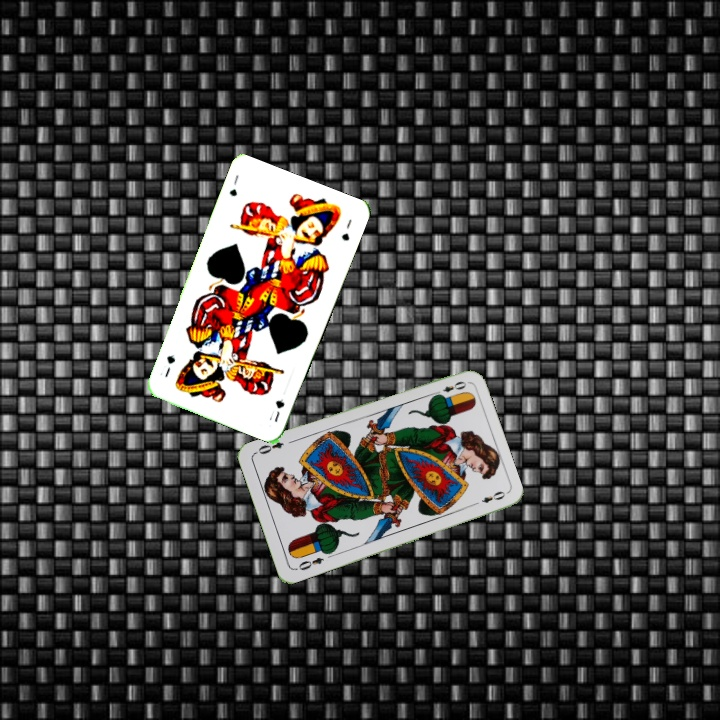EO: (430, 377, 469, 399), (291, 553, 326, 573)
GU: (265, 395, 287, 425), (225, 170, 241, 199)
